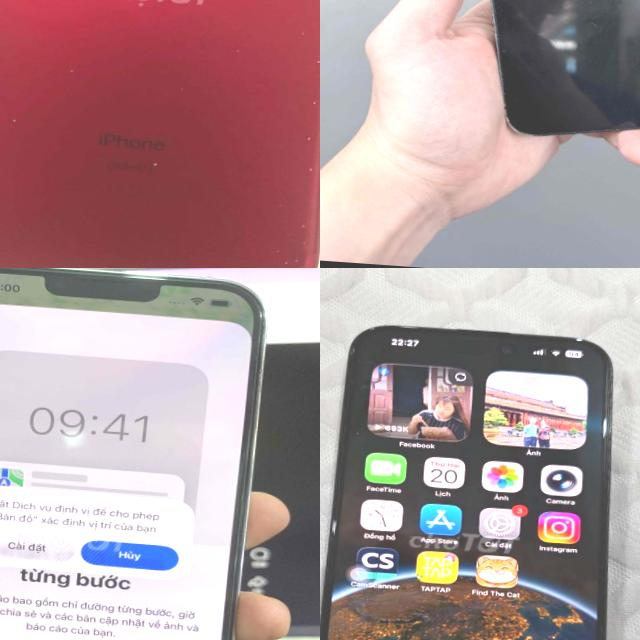scratch: (253, 211, 318, 268), (292, 49, 320, 173), (226, 35, 248, 55), (292, 21, 310, 39), (64, 61, 80, 78), (4, 114, 21, 127), (600, 417, 609, 438), (152, 153, 162, 170), (177, 78, 191, 90), (330, 516, 338, 534), (345, 346, 357, 355), (574, 336, 584, 342), (368, 324, 374, 332)
